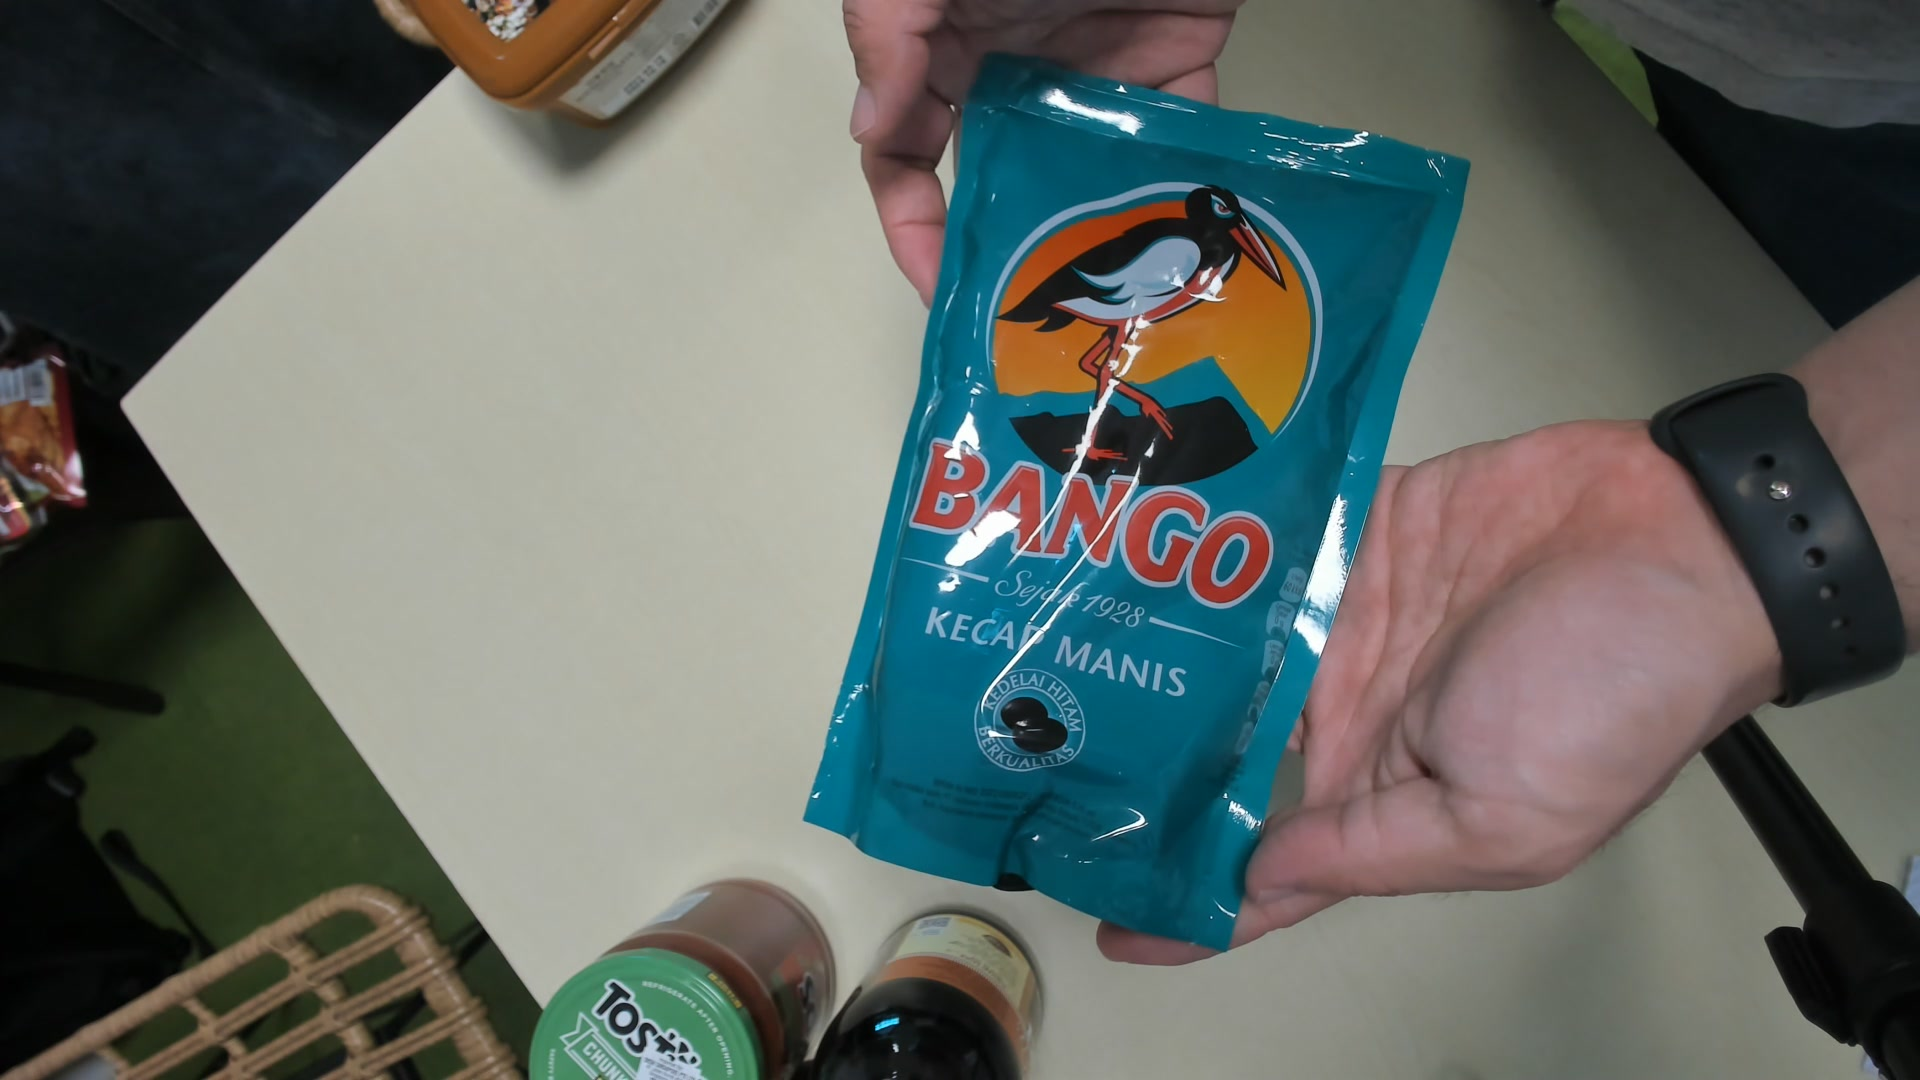OtherSauceDressing_500-599g_NonHalal_NonHealthy: (811, 65, 1440, 924)
